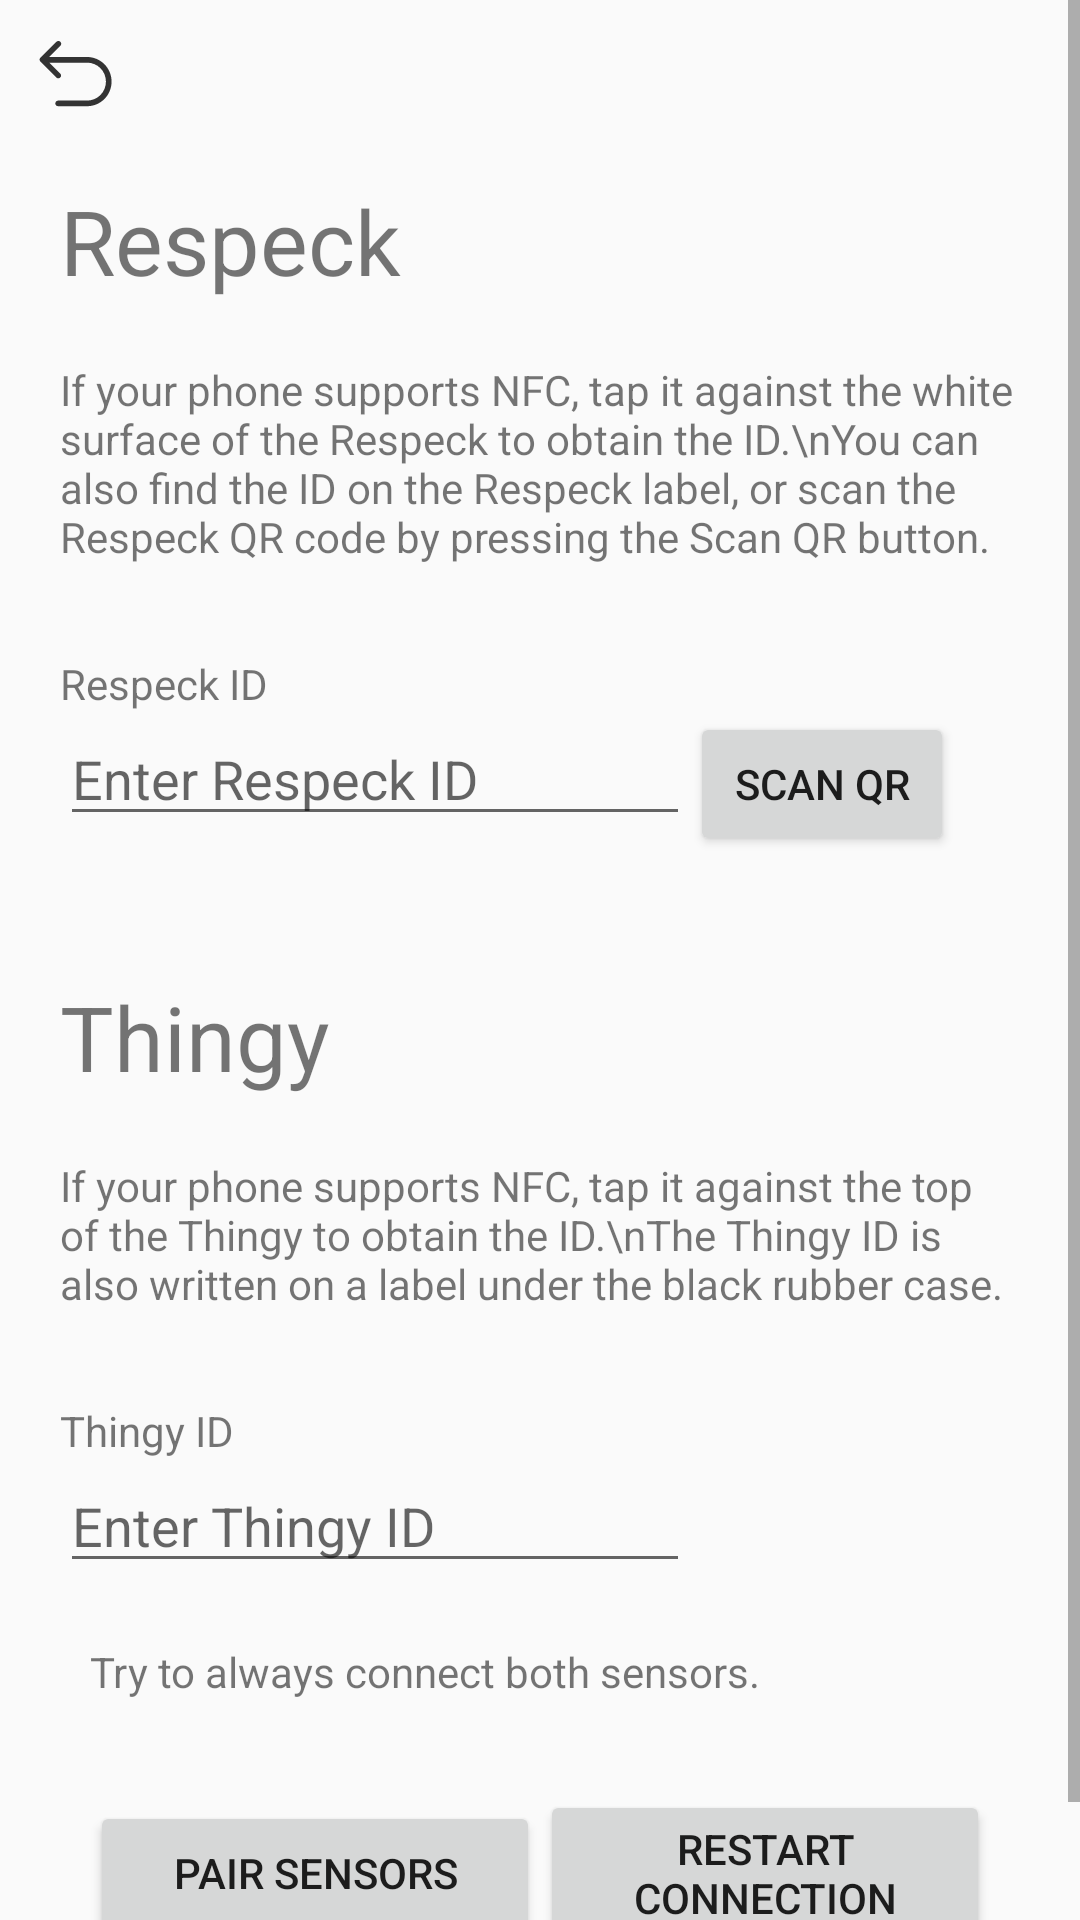

Screen size 1080x1920. Icon name, then its center in pixels as point (x, y):
back: point (75, 74)
